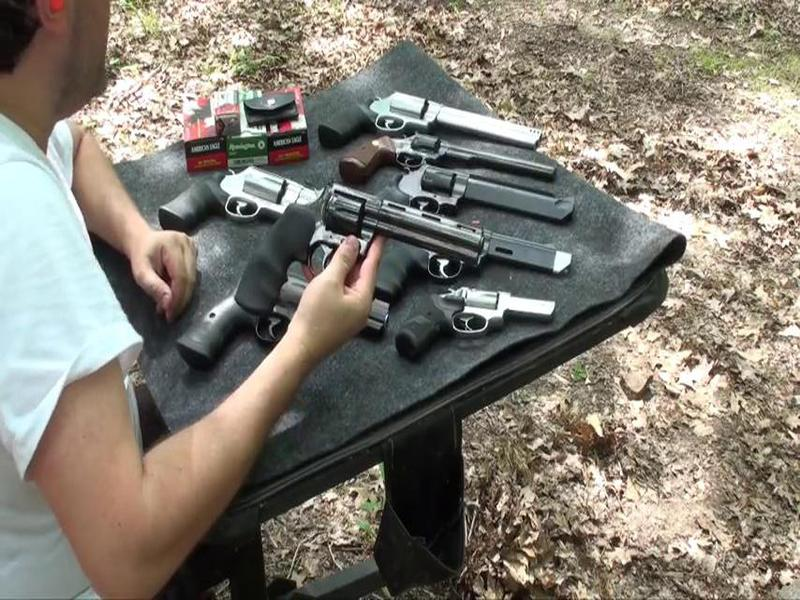Revolver: (239, 167, 488, 336)
